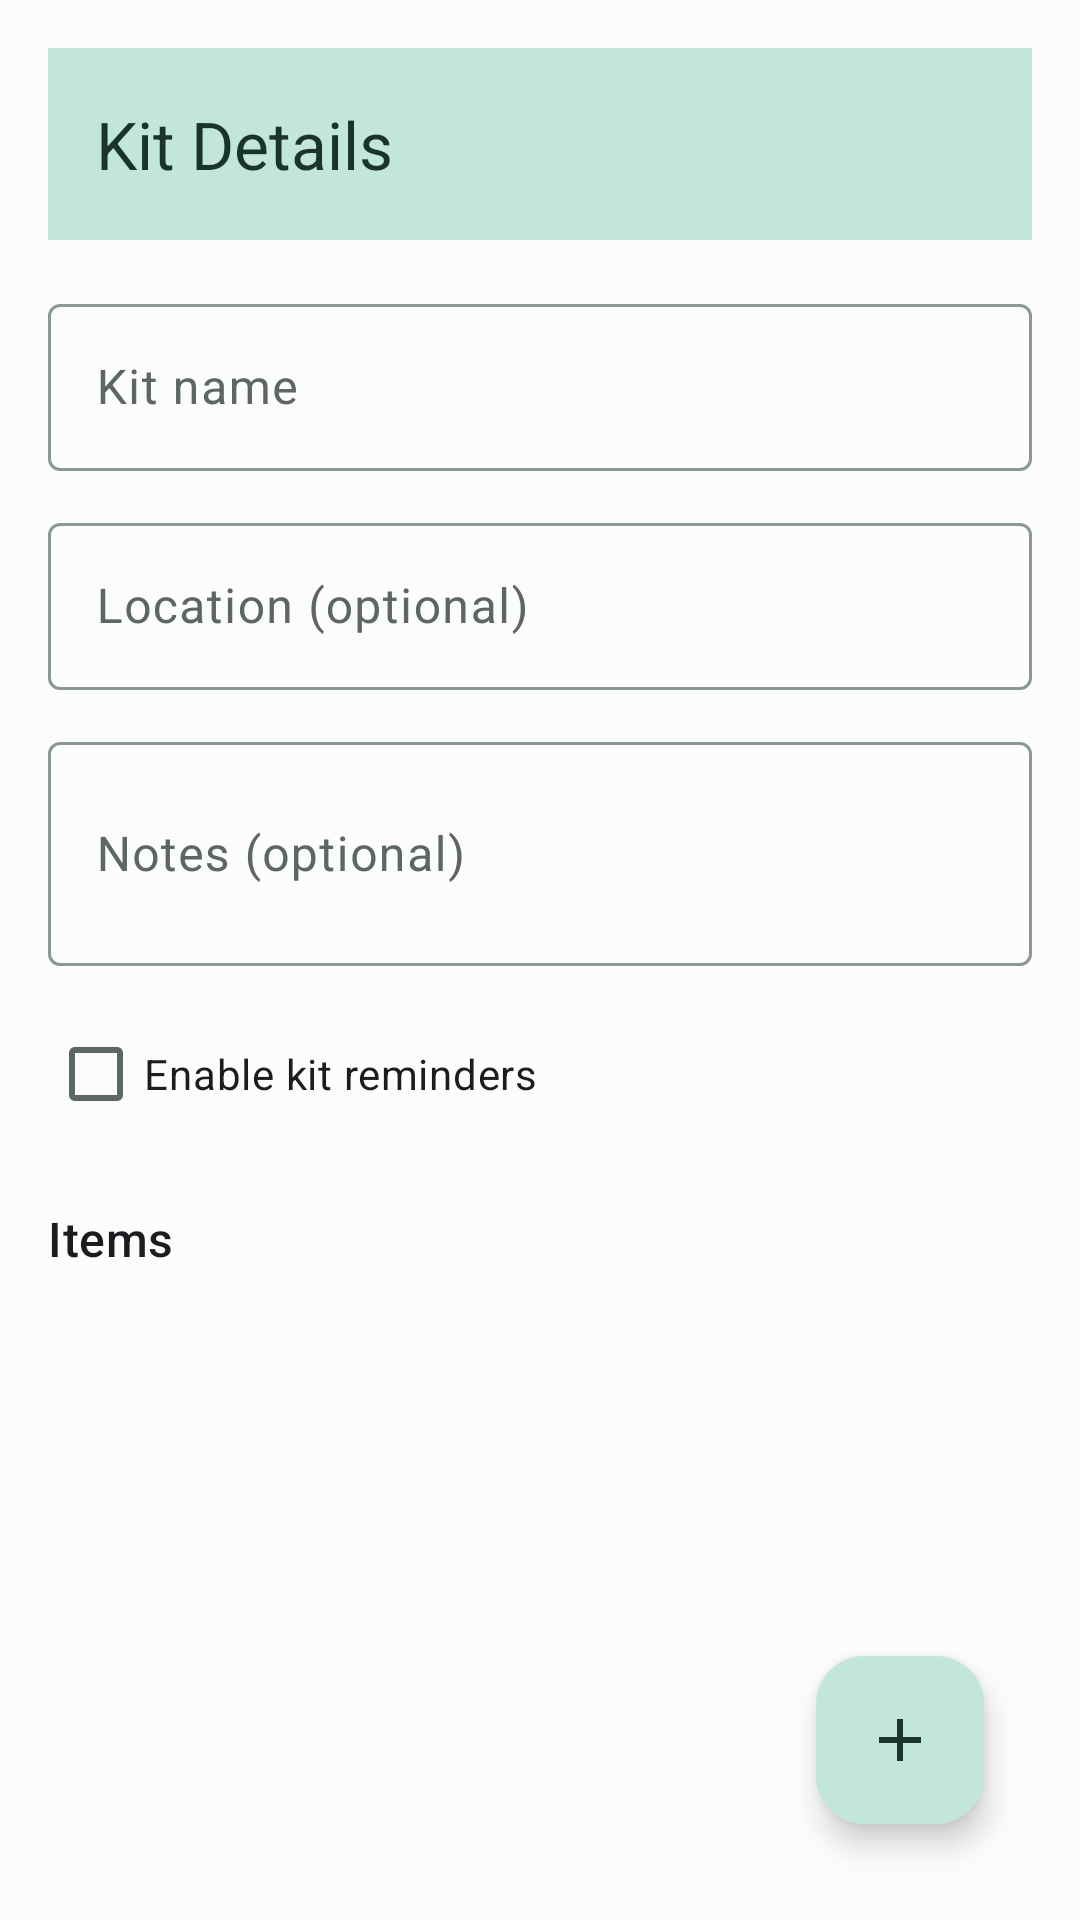

Point at icon controls on the screen. Image size 1080 × 1920, points as (x=x, y=y).
Add Item: (x=900, y=1740)
